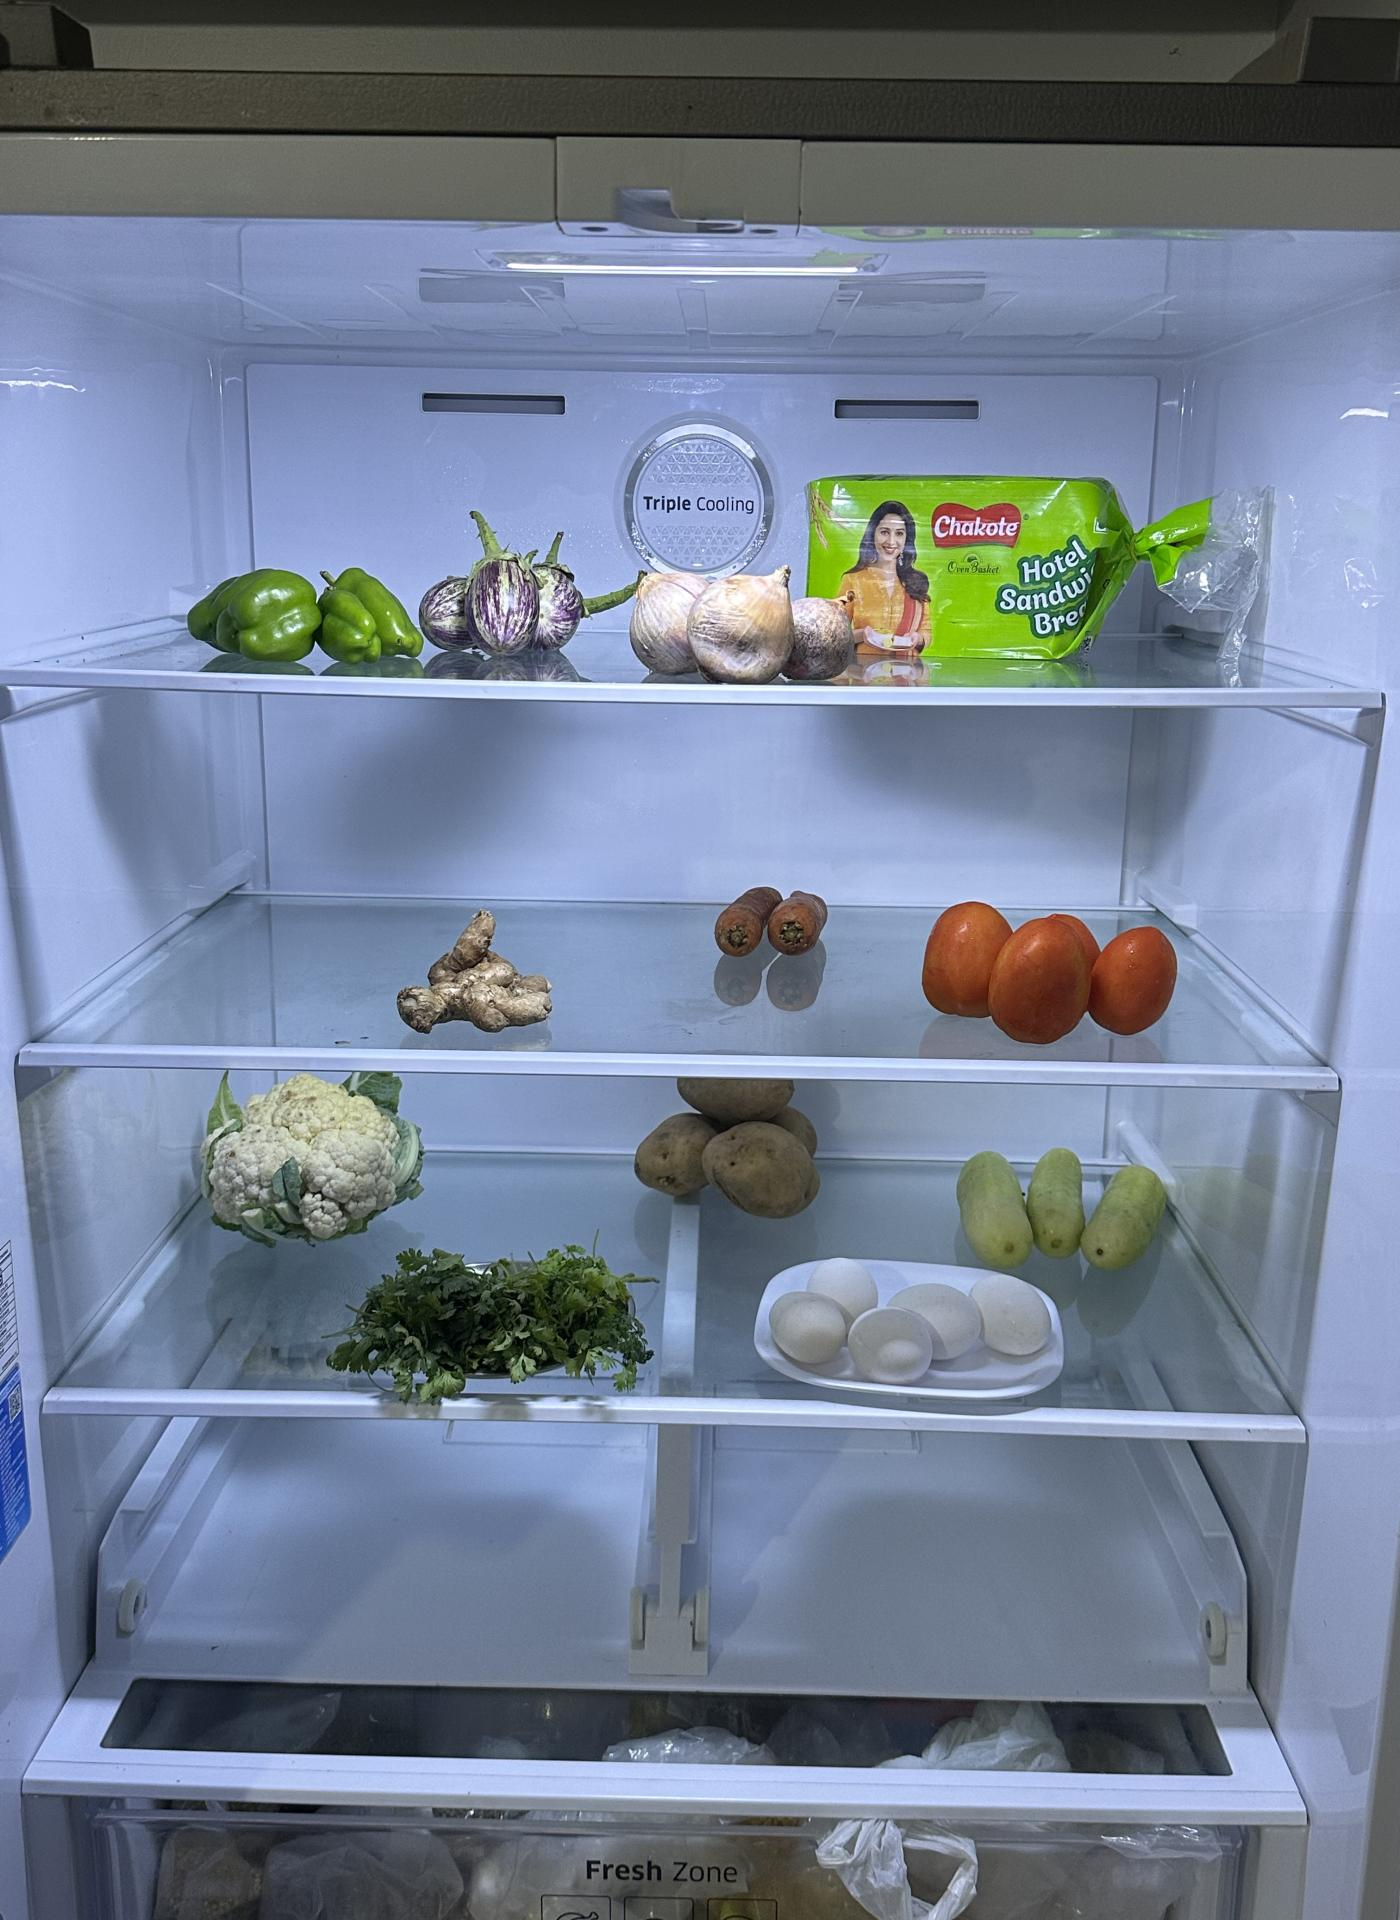bread: (804, 468, 1142, 683)
brinjal: (417, 543, 619, 660)
capsicum: (183, 541, 423, 651)
carrots: (701, 884, 836, 954)
cauliflower: (194, 1073, 429, 1243)
coriander: (358, 1243, 652, 1395)
cucumber: (957, 1133, 1172, 1272)
egg: (775, 1252, 1053, 1377)
ginger: (398, 902, 556, 1039)
onion: (631, 566, 856, 678)
potato: (634, 1067, 830, 1212)
tomato: (921, 897, 1187, 1051)
